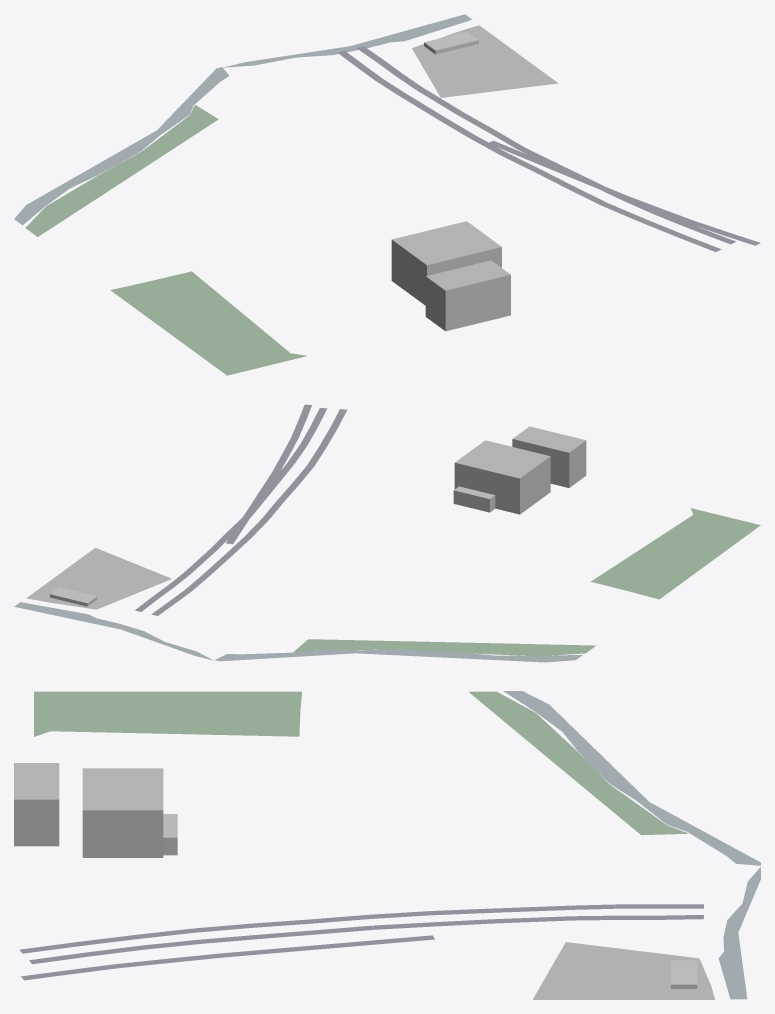
File: 101_82_mid.glb
The picture shows the model from 3 angles, top to bottom: view 1: azimuth 30°, elevation 25°; view 2: azimuth 150°, elevation 25°; view 3: azimuth 270°, elevation 25°; orthographic projection. The views are drawn at different scales.
Bounding box in the file's own units: 500 × 36.41 × 514.
